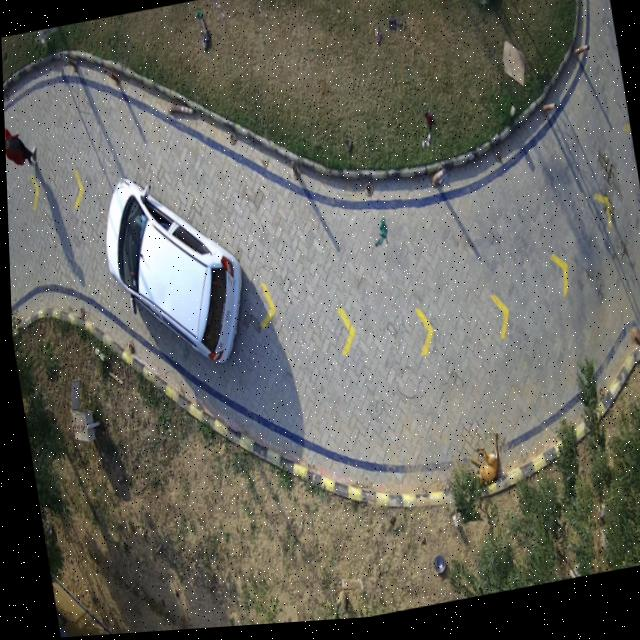car: (104, 179, 239, 365)
